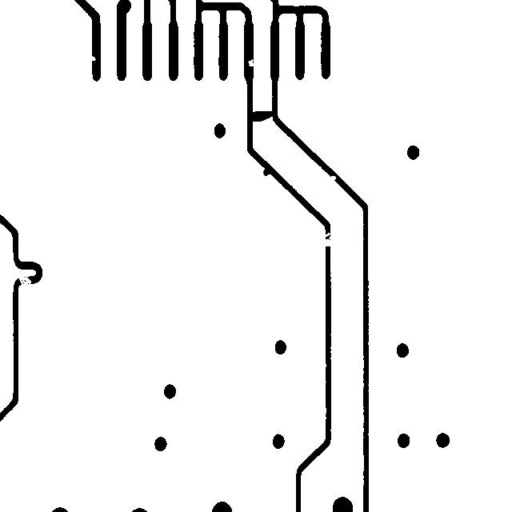mousebite: (240, 51, 262, 74), (322, 168, 343, 190), (82, 47, 103, 68)
open: (313, 225, 341, 254), (10, 268, 38, 294)
short: (240, 103, 282, 129)
spur: (255, 161, 279, 183)
